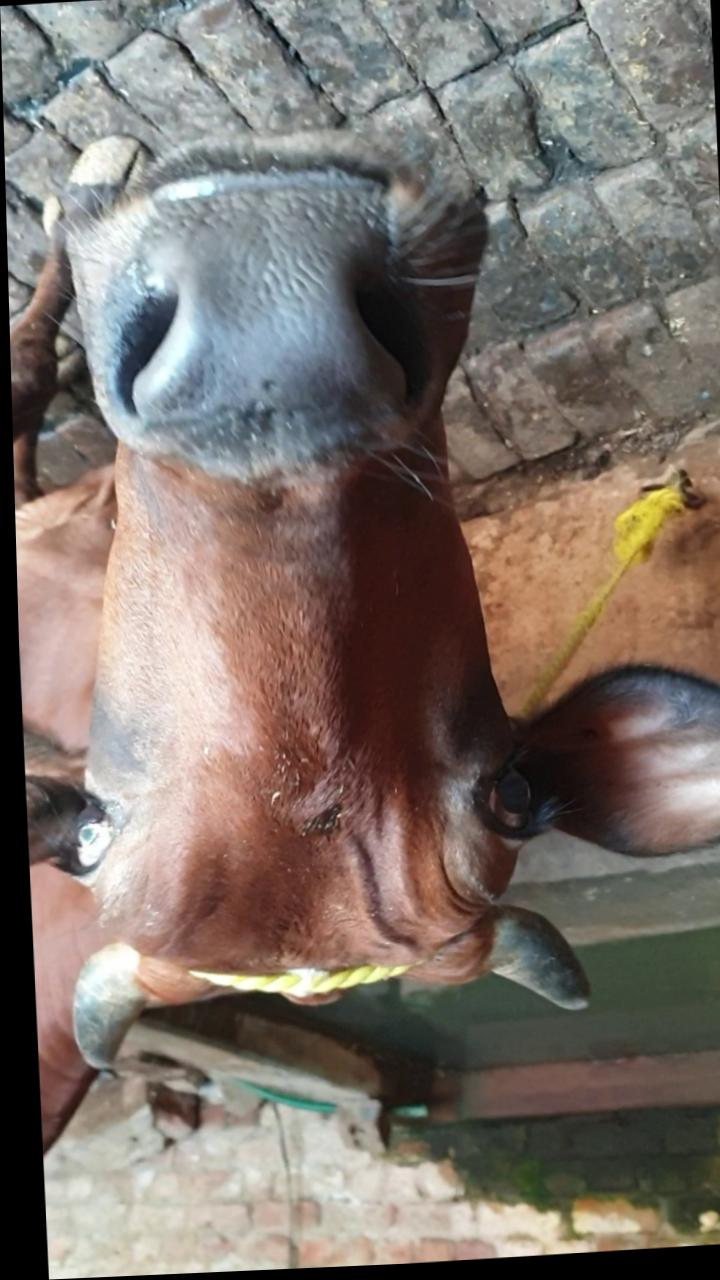cows: (23, 155, 574, 1023)
